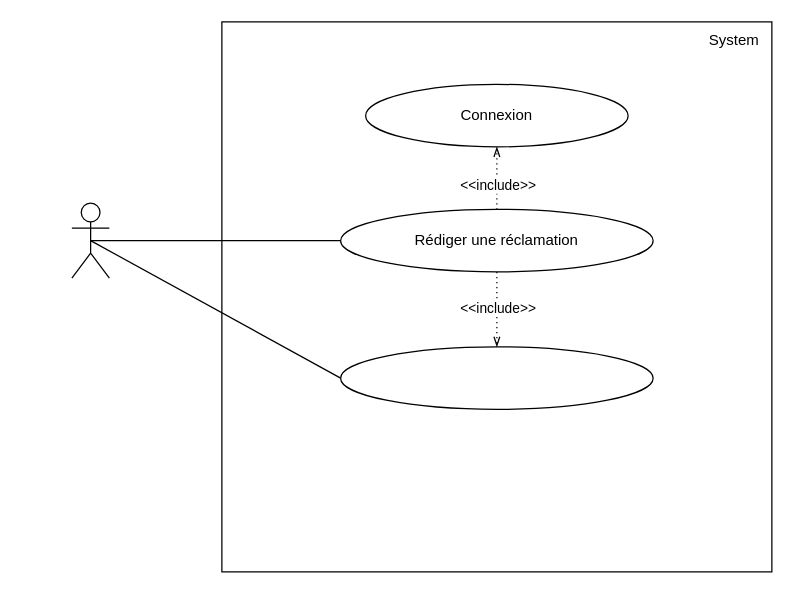
Some shapes in this 794 by 594 pixel diagram are drawn without their labels. The box of each missing label's shape, as (x1, y1, x2, y2) in pixels:
Confirmer l'envoie de la réclamation: (339, 346, 653, 409)
Proche d'un résident: (71, 202, 109, 278)
